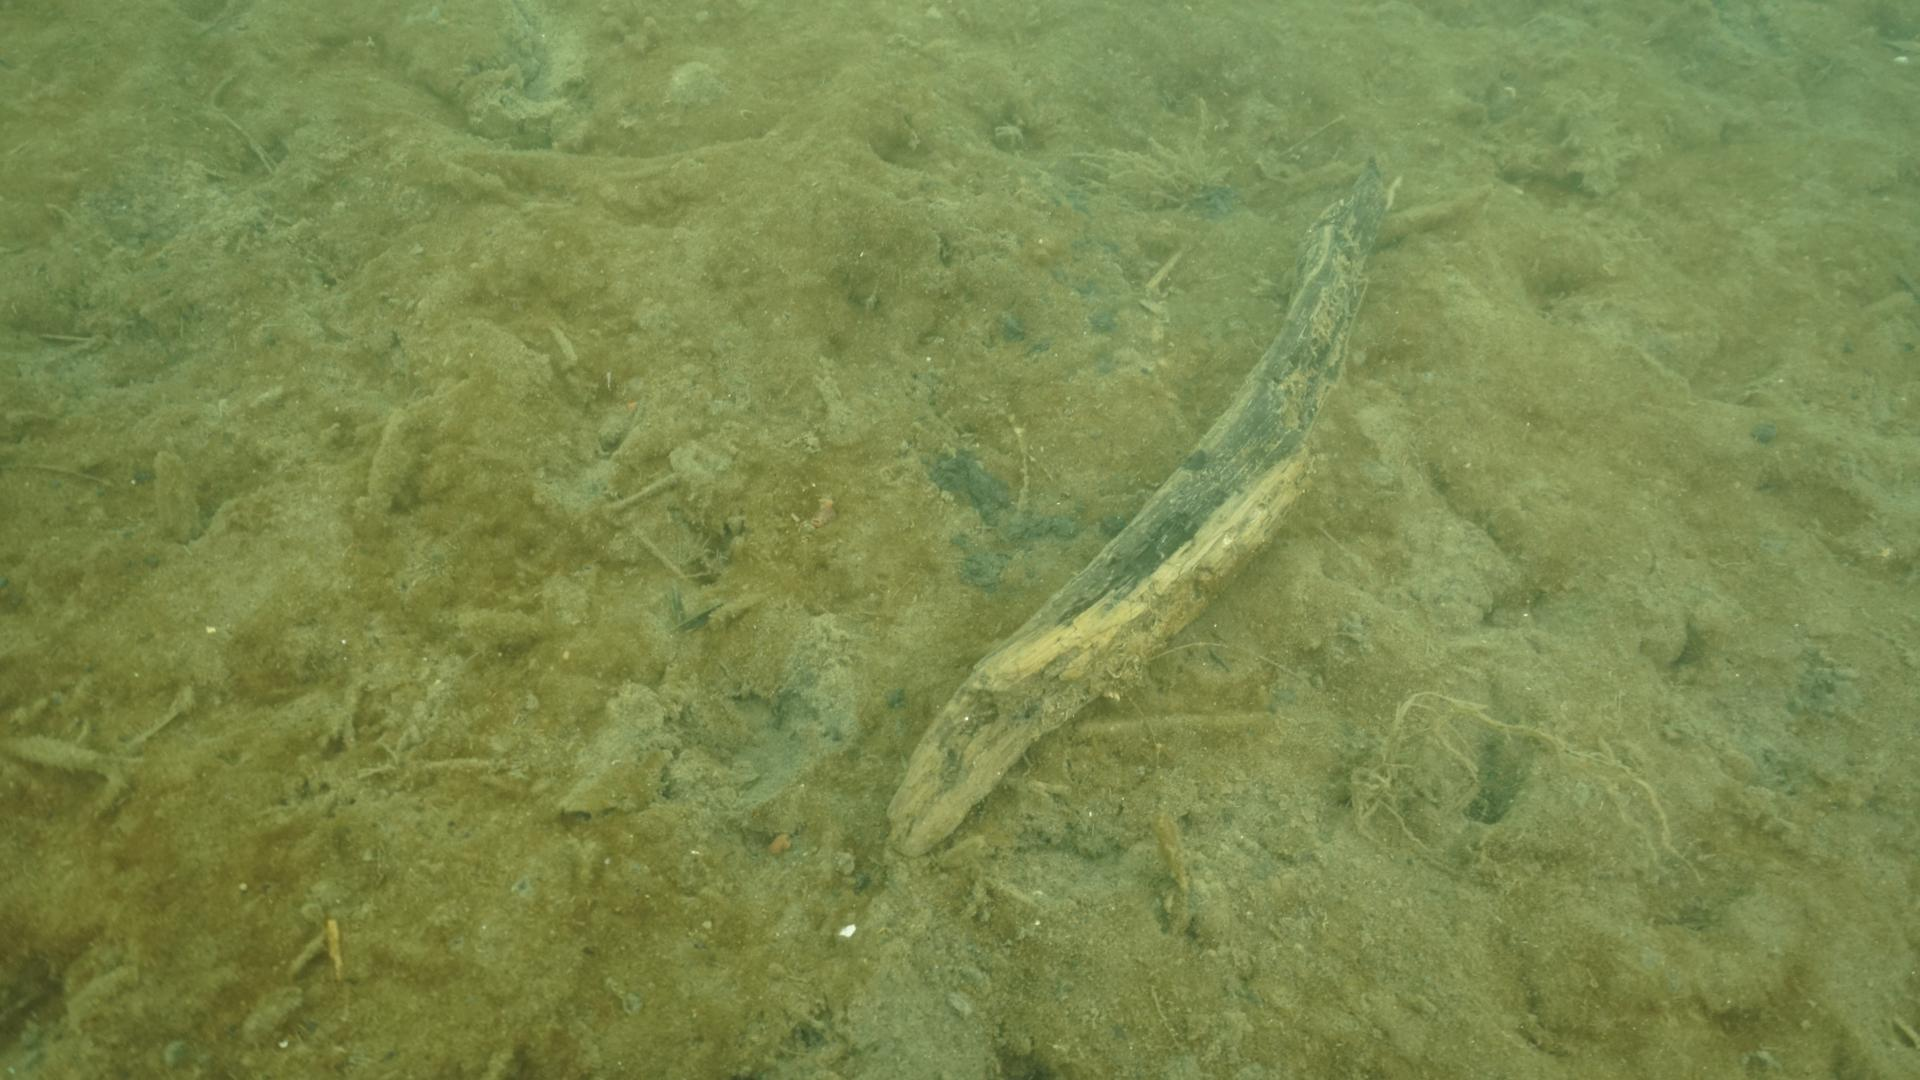wood: (881, 152, 1404, 855)
